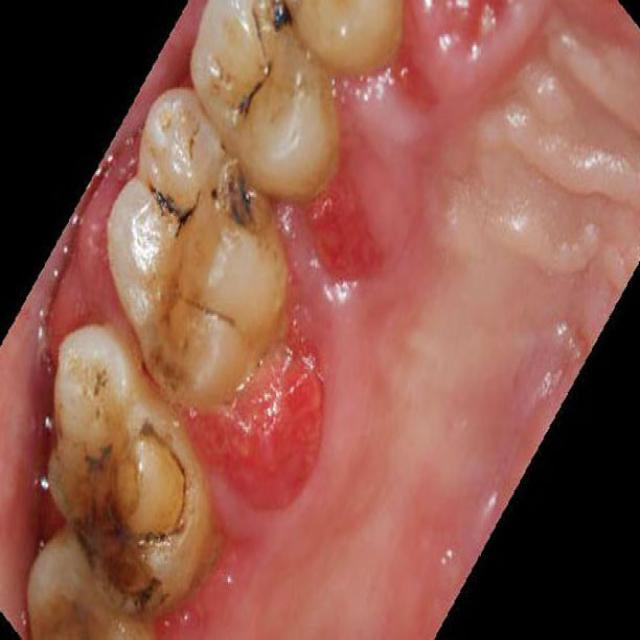caries: (56, 417, 176, 608), (137, 274, 212, 400), (202, 154, 281, 264), (137, 165, 202, 251), (230, 57, 290, 138), (261, 0, 306, 54)
